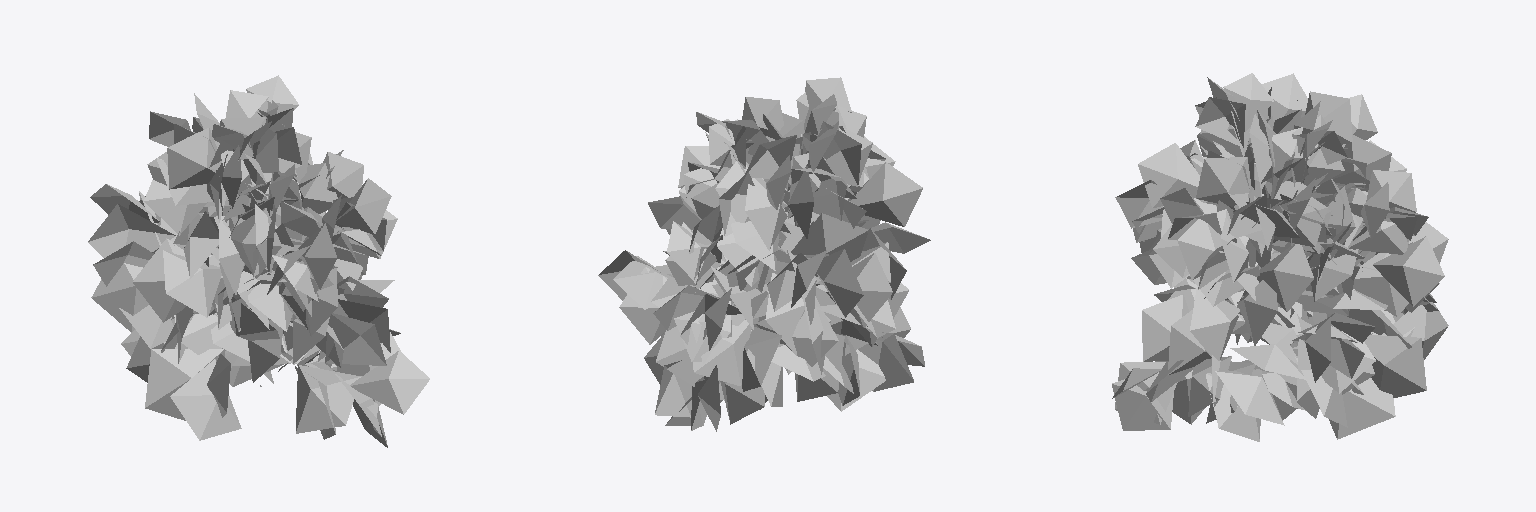
The model's file is TreeLeaves.obj.
3 views of the same model, side by side, from view 1: azimuth 30°, elevation 25°; view 2: azimuth 150°, elevation 25°; view 3: azimuth 270°, elevation 25° (orthographic).
Parts seen in each view (by area): view 1: default; view 2: default; view 3: default.
Boxes of the visible parts, box(x1,y1,x2,y2) form: default: box(88, 75, 429, 447); default: box(598, 77, 930, 431); default: box(1112, 73, 1448, 441).
Bounding box in the file's own units: 672 × 717 × 682.